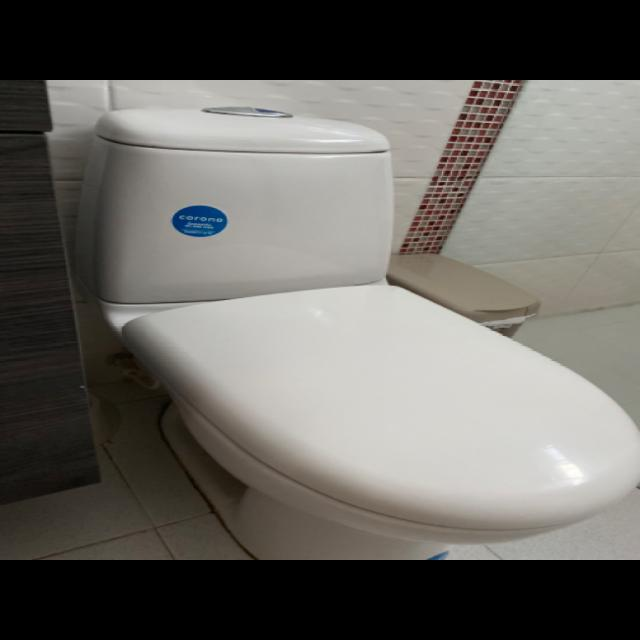toilet: (85, 100, 640, 559)
